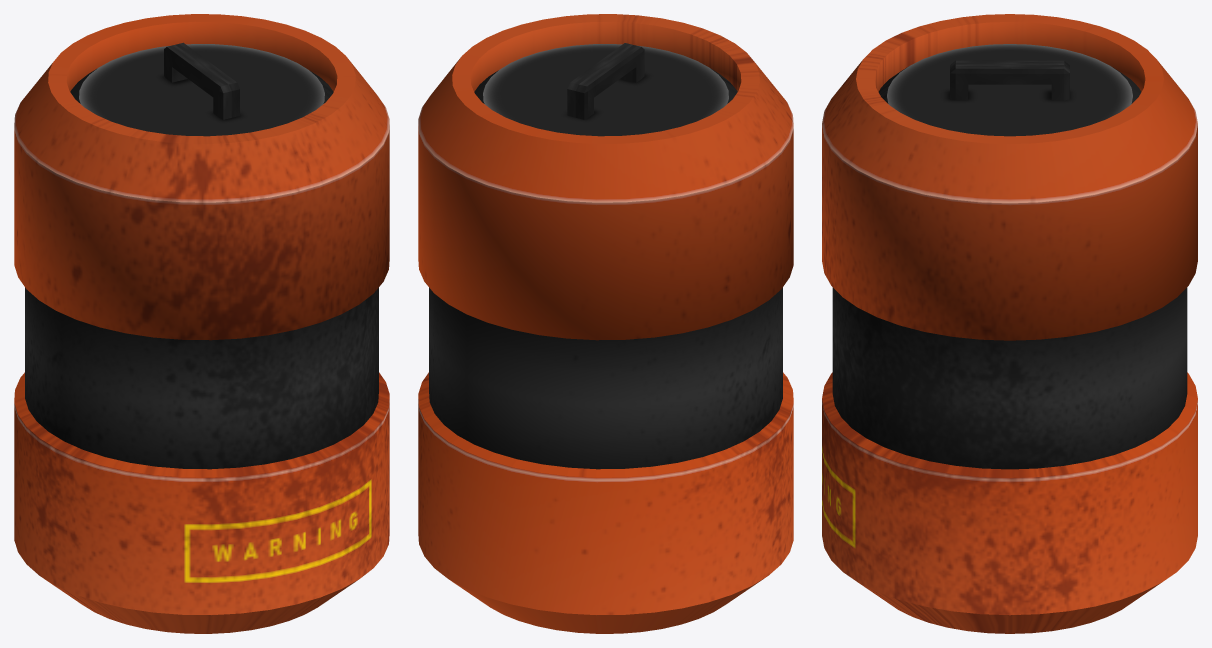
File: Barrel6.fbx
The picture shows the model from 3 angles, left to right: view 1: azimuth 30°, elevation 25°; view 2: azimuth 150°, elevation 25°; view 3: azimuth 270°, elevation 25°; orthographic projection.
Parts seen in each view (by area): view 1: body, Tapa, Mango; view 2: body, Tapa, Mango; view 3: body, Tapa, Mango.
Part boxes in pixels (<box>): body: <box>14,14,389,633</box>; Tapa: <box>70,44,333,136</box>; Mango: <box>164,42,239,119</box>; body: <box>418,14,793,633</box>; Tapa: <box>474,44,737,136</box>; Mango: <box>567,43,644,119</box>; body: <box>822,14,1197,633</box>; Tapa: <box>878,44,1141,136</box>; Mango: <box>950,60,1069,100</box>.
Bounding box in the file's own units: 68.02 × 102 × 68.02.
